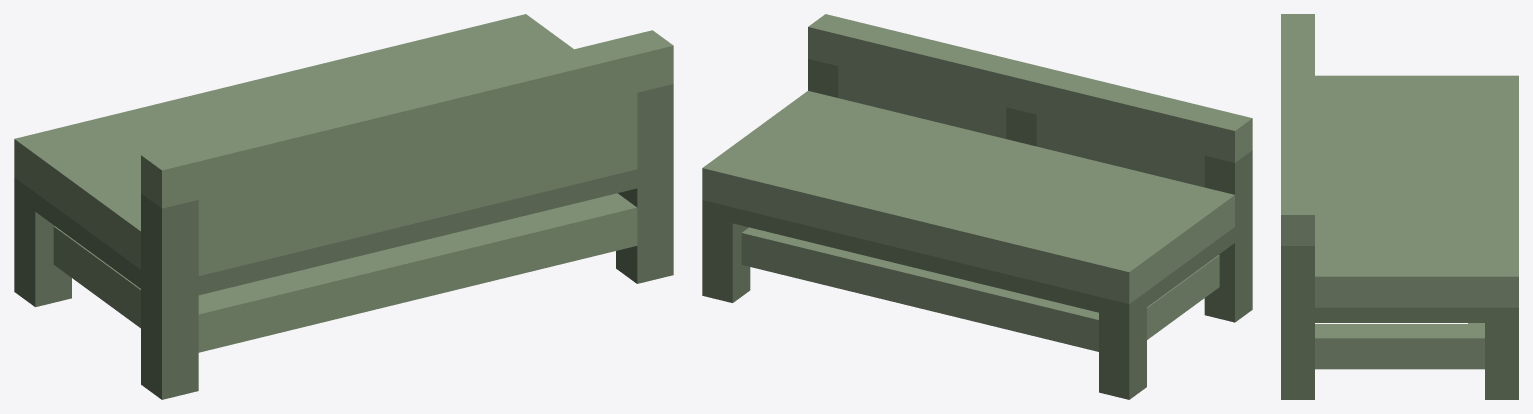
The model's file is banco_01.glb.
3 renders of one model, left to right at view 1: azimuth 30°, elevation 25°; view 2: azimuth 150°, elevation 25°; view 3: azimuth 270°, elevation 25°, orthographic. The views are drawn at different scales.
Parts seen in each view (by area): view 1: banco; view 2: banco; view 3: banco.
Part boxes in pixels (<box>): banco: <box>14,14,673,399</box>; banco: <box>702,14,1252,399</box>; banco: <box>1281,14,1518,399</box>.
Bounding box in the file's own units: 2 × 0.8571 × 1.
